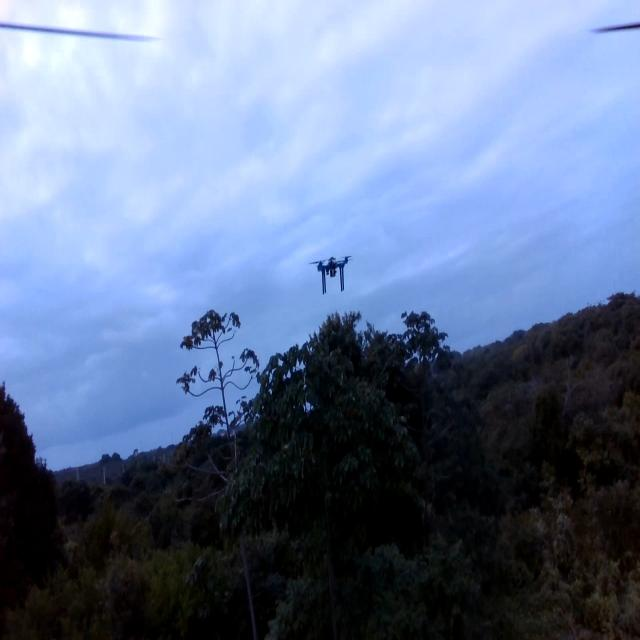-uav-: (311, 248, 354, 300)
